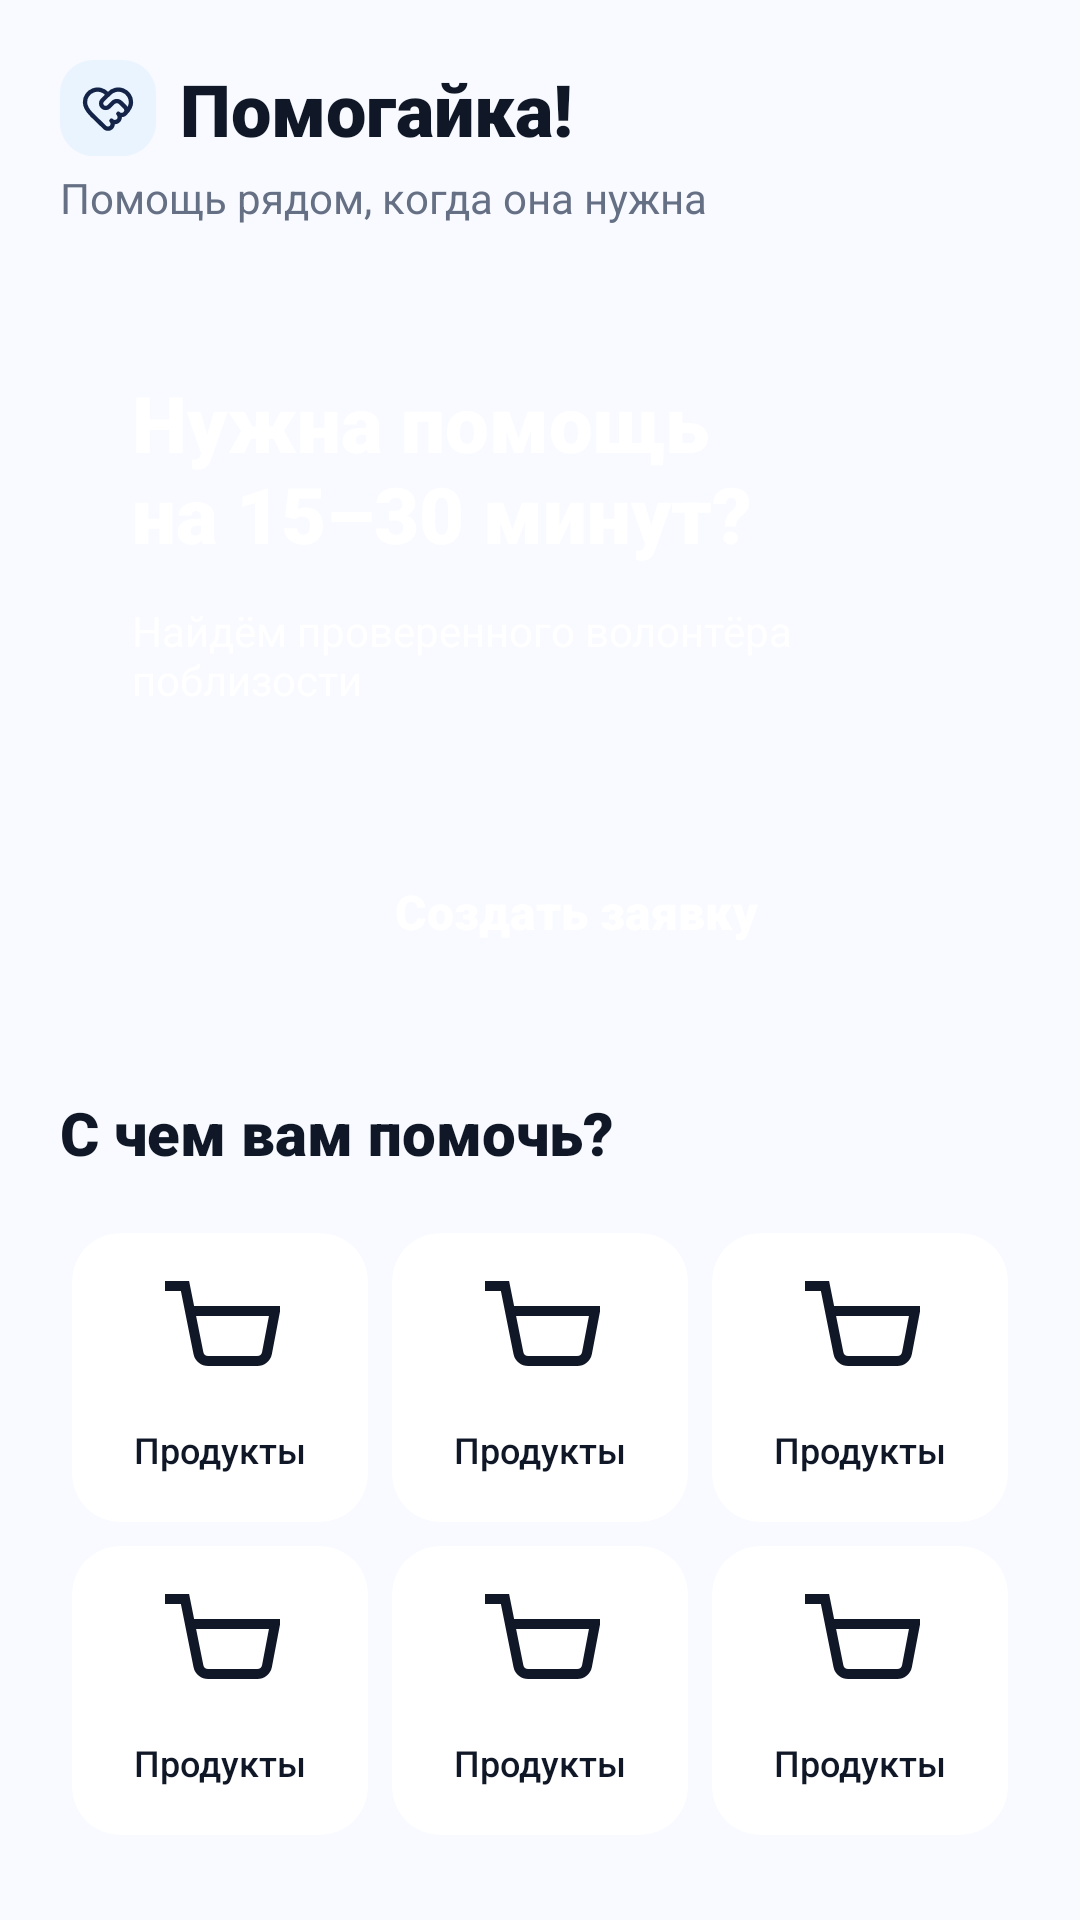

Icon bounding boxes for this 1080px×1920px phone screenshot, format (x1, y1, x2, y2):
cart: (165, 1281, 280, 1366), (485, 1281, 600, 1366), (805, 1281, 920, 1366), (165, 1594, 280, 1679), (485, 1594, 600, 1679), (805, 1594, 920, 1679)
